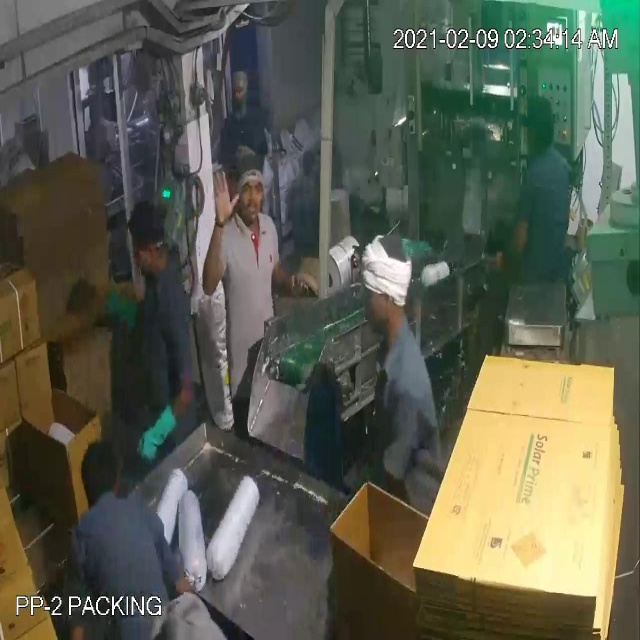Guantes: (99, 272, 163, 349), (126, 406, 184, 468)
Sin_guantes: (188, 153, 238, 308), (259, 242, 324, 315)
